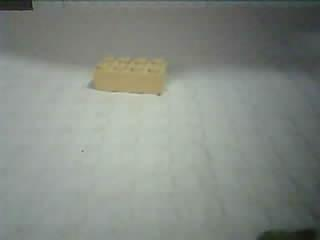lego: (90, 52, 169, 96)
